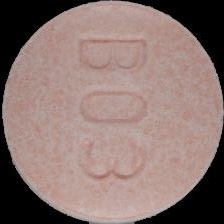49349-248: (0, 0, 224, 224)
